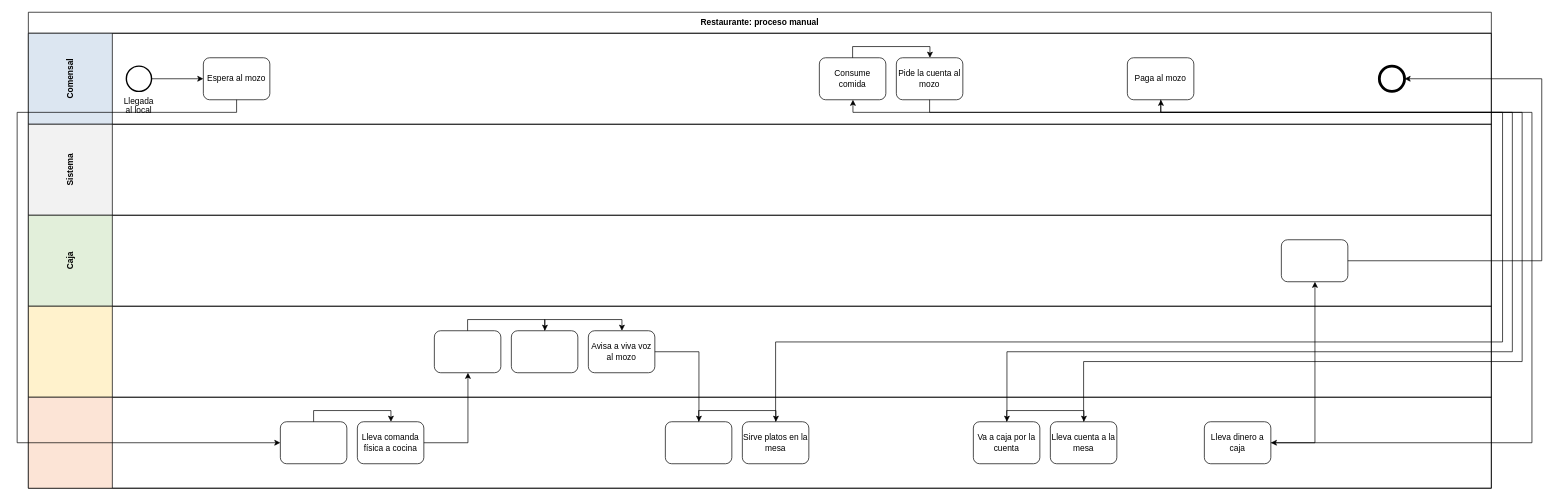
This 1560x501 diagram has some shape labels left out. The shapes that lost their labels are listed below. From the top down, each one's box as (x1, y1, x2, y2) in pixels, then its label:
(1378, 64, 1406, 92): Cliente se retira
(1281, 239, 1348, 282): Procesa cobro manual
(434, 330, 501, 373): Recibe papel
(511, 330, 578, 373): Prepara platos de forma desordenada
(28, 306, 1491, 397): Cocina
(280, 421, 347, 464): Toma pedido en papel
(665, 421, 732, 464): Recoge platos
(28, 397, 1491, 488): Mozo
